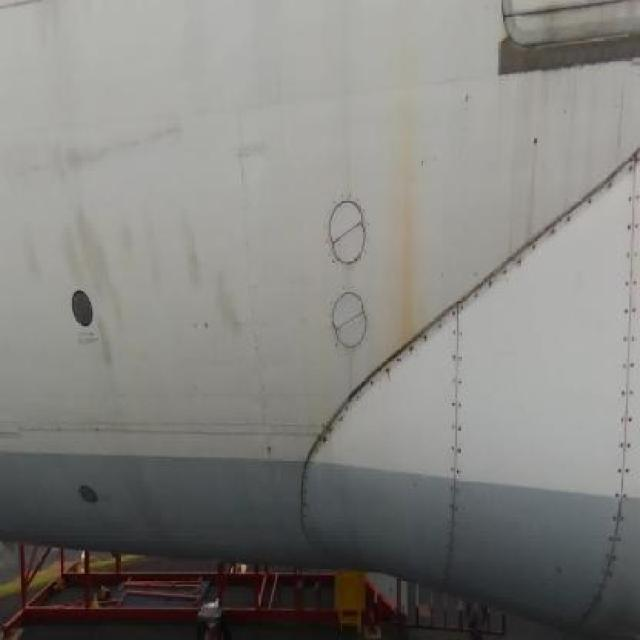Missing-Rivet: (473, 180, 618, 334), (329, 321, 445, 425), (617, 120, 640, 537), (447, 287, 467, 559)
Rust: (378, 124, 439, 345)
Scartch: (14, 189, 160, 362), (162, 186, 264, 343), (7, 108, 193, 178), (226, 101, 289, 187)
